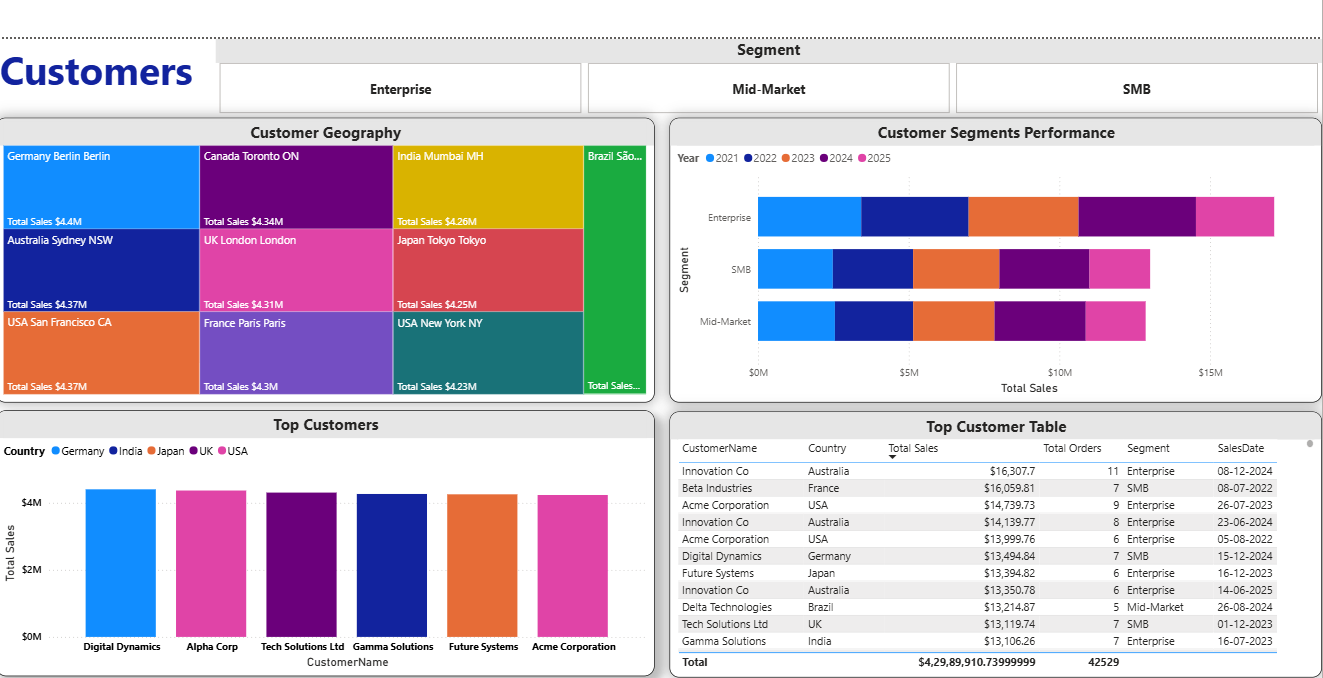

Layout of this report page (visuals, bound fields, positions):
{"tool":"powerbi","page":{"name":"Customer Analysis","canvas":[1650,800],"ordinal":2},"visuals":[{"type":"textbox","box":[10.7,0,284.6,74.6],"z":0},{"type":"advancedSlicerVisual","fields":{"Values":["DimCust.Segment"]},"box":[282.7,0,1367.3,97.3],"z":1000},{"type":"treemap","title":"Customer Geography","fields":{"Group":["DimCust.Country","DimCust.City","DimCust.State"],"Values":["FactSales.Total Sales","FactSales.Total Quantity"]},"box":[10.8,97.3,814.2,352.2],"z":2000},{"type":"barChart","title":"Customer Segments Performance","fields":{"Category":["DimCust.Segment"],"Y":["FactSales.Total Sales"],"Series":["Calendar.Year"]},"box":[843.5,97.3,806.5,352.2],"z":3000},{"type":"columnChart","title":"Top Customers ","fields":{"Category":["DimCust.CustomerName"],"Y":["FactSales.Total Sales"],"Series":["DimCust.Country"]},"box":[10.8,458.8,814.2,329.1],"z":4000},{"type":"tableEx","title":"Top Customer Table","fields":{"Values":["DimCust.CustomerName","DimCust.Country","FactSales.Total Sales","FactSales.Total Orders","DimCust.Segment","FactSales.SalesDate"]},"box":[843.5,460.4,806.5,329.1],"z":5000}]}

Visuals, with their boxes on the page's 1650x800 design canvas (x1, y1, x2, y2). These are canvas units, not pixel positions in the 1323x678 screenshot, which may show the page scaled, cropped or inside an application window:
textbox: box(11, 0, 295, 75)
advancedSlicerVisual - DimCust.Segment: box(283, 0, 1650, 97)
"Customer Geography" treemap: box(11, 97, 825, 450)
"Customer Segments Performance" barChart: box(844, 97, 1650, 450)
"Top Customers " columnChart: box(11, 459, 825, 788)
"Top Customer Table" tableEx: box(844, 460, 1650, 790)
